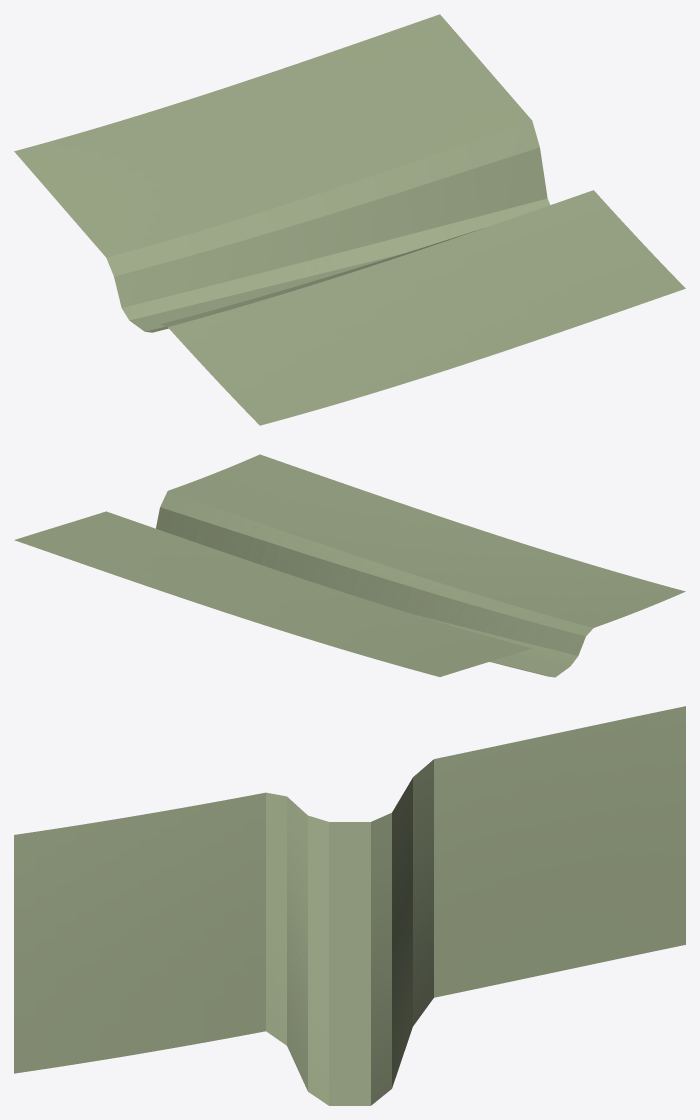
The model's file is valley-9-2.glb.
The picture shows the model from 3 angles, top to bottom: view 1: azimuth 30°, elevation 25°; view 2: azimuth 150°, elevation 25°; view 3: azimuth 270°, elevation 25°; orthographic projection. The views are drawn at different scales.
Parts seen in each view (by area): view 1: valley-9-2; view 2: valley-9-2; view 3: valley-9-2.
Boxes of the visible parts, box(x1,y1,x2,y2) form: valley-9-2: box(14, 14, 685, 425); valley-9-2: box(14, 454, 685, 677); valley-9-2: box(14, 706, 685, 1105).
Bounding box in the file's own units: 256 × 73.21 × 256.
